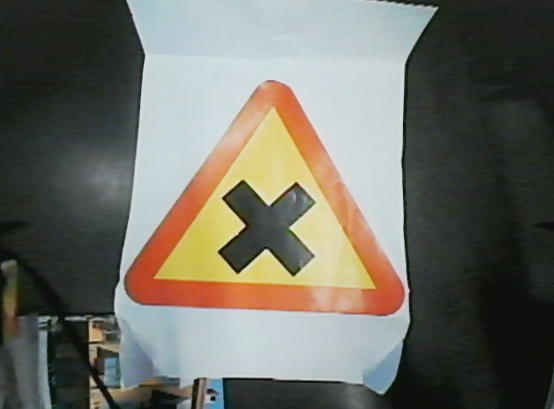junction: (125, 79, 408, 320)
